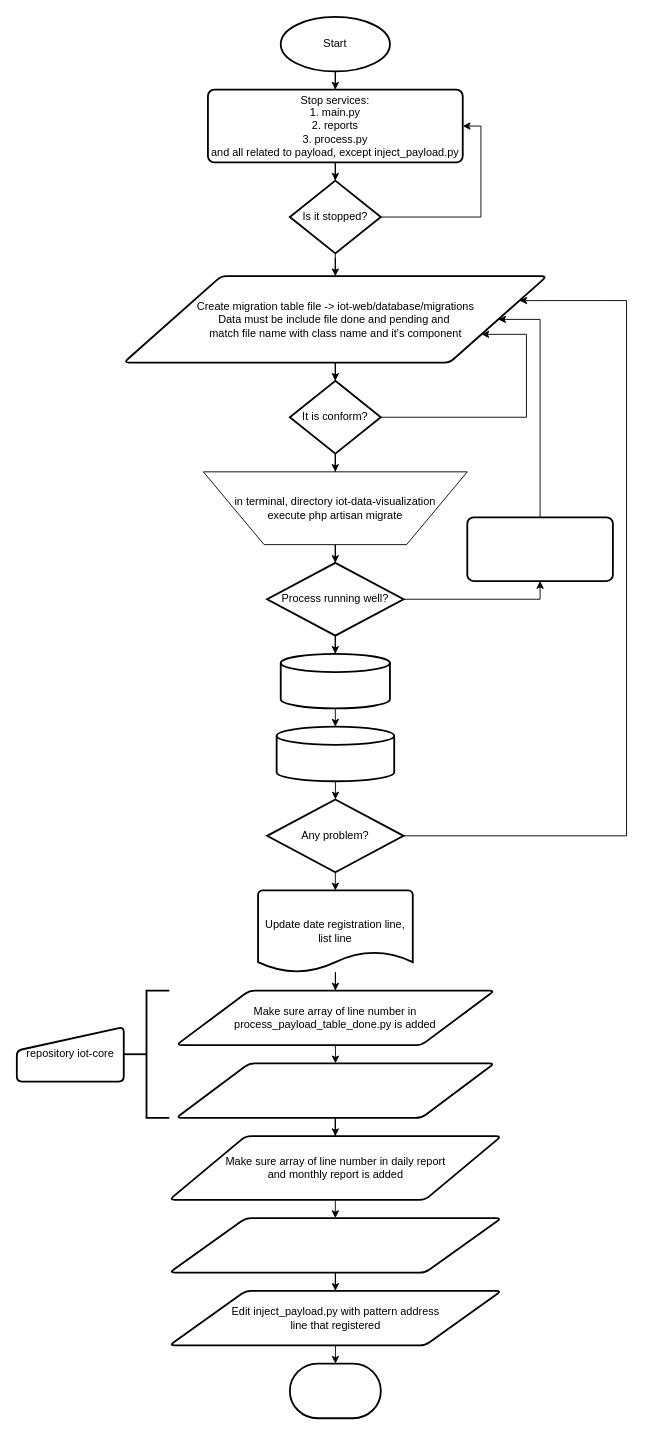
Some shapes in this 650 by 1434 pixel diagram are drawn without their labels. The centre of each missing label's shape, as x and y in pixels:
"Backup database" goes at pixel 334 680.
"END" goes at pixel 334 1390.
"Make sure array of line number in main.py is added" goes at pixel 335 1245.
"Make sure array of line number in process_payload_table_pending.py is added" goes at pixel 335 1090.
"Make sure not continuing to next process" goes at pixel 539 548.
"Test import backed db not replace" goes at pixel 335 753.
